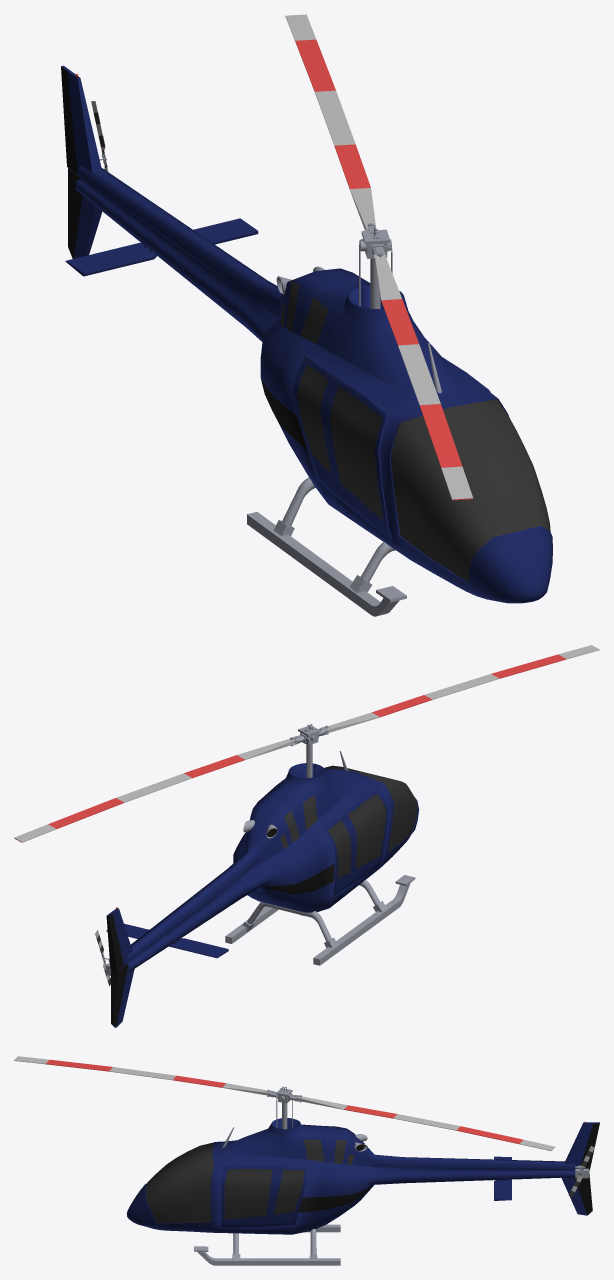
File: heli_505_real.glb
3 renders of one model, top to bottom at view 1: azimuth 30°, elevation 25°; view 2: azimuth 150°, elevation 25°; view 3: azimuth 270°, elevation 25°, orthographic. The views are drawn at different scales.
Parts seen in each view (by area): view 1: Cube, mainrotor_blade_Cube.006, tailrotor_Cube.002, mainrotor_blade_Cube.001, Cube.022, Plane.003, Cube.018, mainrotor_hub_Cube.011; view 2: Cube, mainrotor_blade_Cube.001, mainrotor_blade_Cube.006, tailrotor_Cube.002, Cube.022, Plane.003, Cube.018; view 3: Cube, tailrotor_Cube.002, mainrotor_blade_Cube.001, mainrotor_blade_Cube.006, Cube.019, Plane.003, mainrotor_hub_Cube.011, Cube.018.
Boxes of the visible parts, x1=… form: Cube: x1=74, y1=166, x2=552, y2=603; mainrotor_blade_Cube.006: x1=374, y1=253, x2=473, y2=500; tailrotor_Cube.002: x1=61, y1=65, x2=102, y2=258; mainrotor_blade_Cube.001: x1=285, y1=14, x2=375, y2=229; Cube.022: x1=247, y1=512, x2=406, y2=616; Plane.003: x1=65, y1=218, x2=258, y2=276; Cube.018: x1=282, y1=477, x2=395, y2=582; mainrotor_hub_Cube.011: x1=359, y1=229, x2=392, y2=305; Cube: x1=126, y1=763, x2=419, y2=971; mainrotor_blade_Cube.001: x1=14, y1=738, x2=295, y2=842; mainrotor_blade_Cube.006: x1=325, y1=645, x2=599, y2=732; tailrotor_Cube.002: x1=106, y1=908, x2=134, y2=1027; Cube.022: x1=313, y1=875, x2=415, y2=965; Plane.003: x1=106, y1=923, x2=228, y2=958; Cube.018: x1=247, y1=879, x2=380, y2=941; Cube: x1=126, y1=1118, x2=575, y2=1234; tailrotor_Cube.002: x1=561, y1=1122, x2=599, y2=1215; mainrotor_blade_Cube.001: x1=298, y1=1096, x2=554, y2=1150; mainrotor_blade_Cube.006: x1=14, y1=1056, x2=269, y2=1095; Cube.019: x1=194, y1=1246, x2=340, y2=1265; Plane.003: x1=494, y1=1156, x2=511, y2=1200; mainrotor_hub_Cube.011: x1=269, y1=1088, x2=297, y2=1128; Cube.018: x1=233, y1=1229, x2=316, y2=1255.
Bounding box in the file's own units: 8.43 × 6.66 × 22.05.
